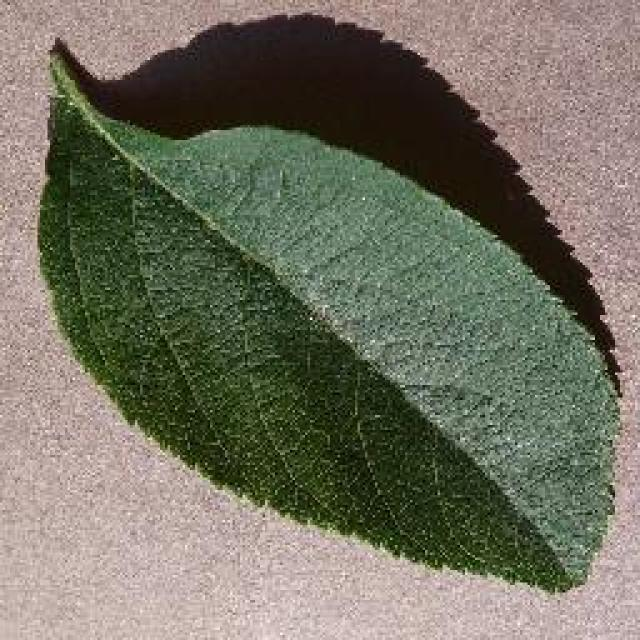apple healthy: (33, 10, 625, 595)
